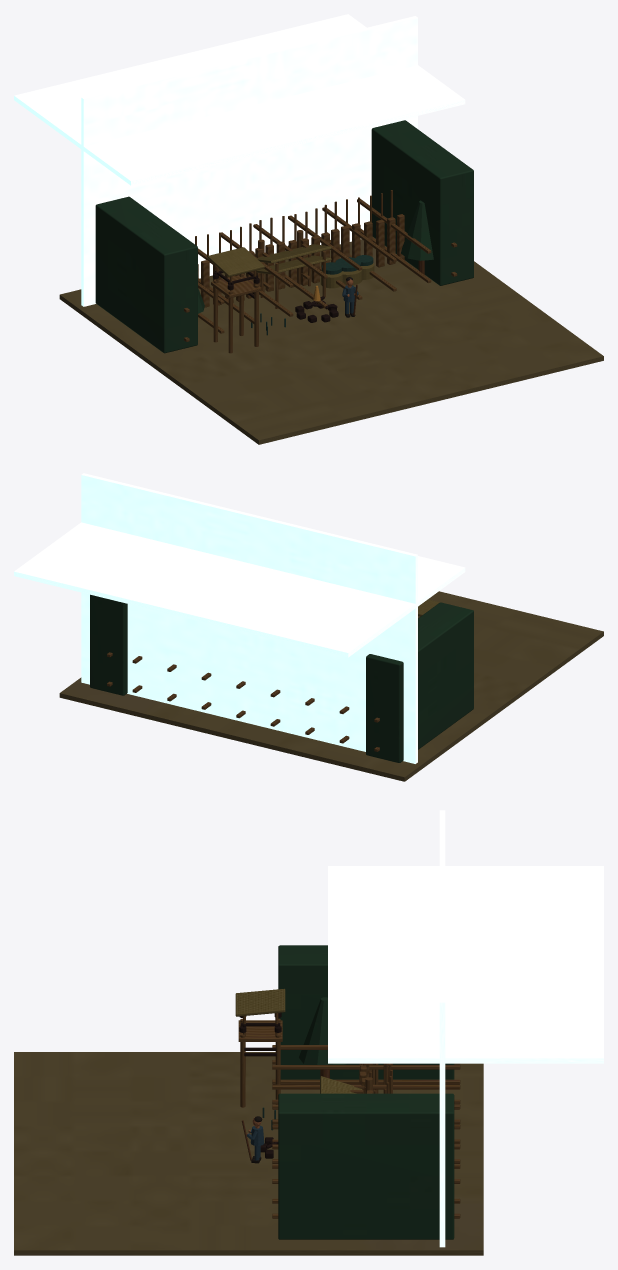
Rendered from room.glb.
3 renders of one model, top to bottom at view 1: azimuth 30°, elevation 25°; view 2: azimuth 150°, elevation 25°; view 3: azimuth 270°, elevation 25°, orthographic. The views are drawn at different scales.
Parts seen in each view (by area): view 1: Open sky backdrop, Clearing ground, Distant forest line, Pagar bambu, Menara jaga.023, Menara jaga.001; view 2: Open sky backdrop, Clearing ground, Distant forest line, Pagar bambu; view 3: Clearing ground, Open sky backdrop, Distant forest line, Pagar bambu, Menara jaga.023, Menara jaga.001.
Boxes of the visible parts, <box> form: Open sky backdrop: <box>14,14,465,306</box>; Clearing ground: <box>59,237,603,444</box>; Distant forest line: <box>95,120,473,353</box>; Pagar bambu: <box>184,190,457,353</box>; Menara jaga.023: <box>207,244,374,288</box>; Menara jaga.001: <box>213,270,338,322</box>; Open sky backdrop: <box>14,473,465,763</box>; Clearing ground: <box>59,591,603,781</box>; Distant forest line: <box>90,594,473,762</box>; Pagar bambu: <box>107,652,379,751</box>; Clearing ground: <box>14,1052,483,1255</box>; Open sky backdrop: <box>328,810,603,1247</box>; Distant forest line: <box>278,945,454,1239</box>; Pagar bambu: <box>238,1013,460,1218</box>; Menara jaga.023: <box>235,988,362,1093</box>; Menara jaga.001: <box>239,1012,281,1158</box>.
Bounding box in the file's own units: 16 × 9.6 × 20.1.
Materials: 12 (12 with a texture image).
